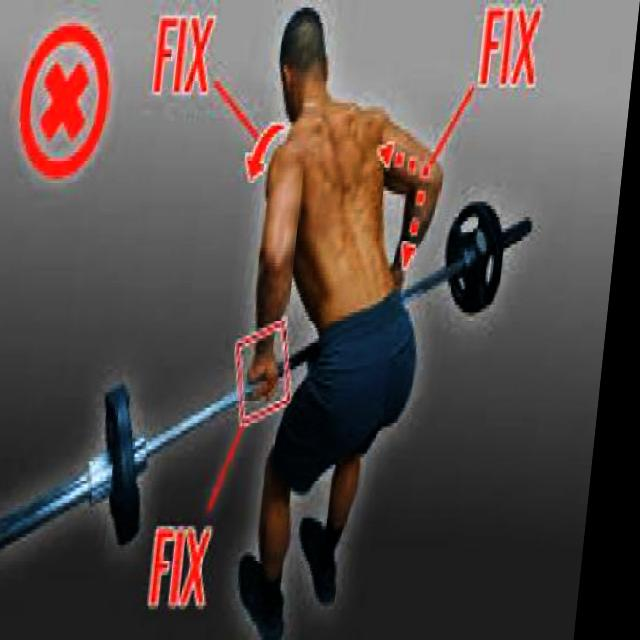barbell: (1, 379, 164, 565)
